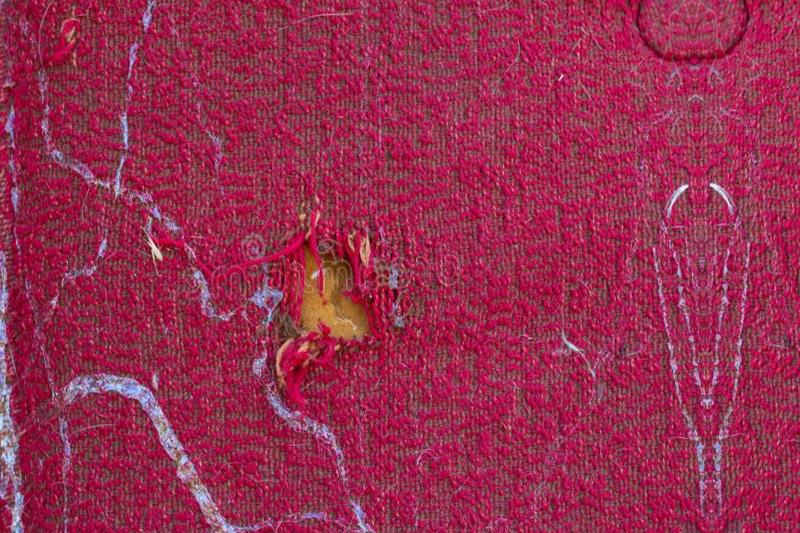hole: (278, 224, 385, 380)
